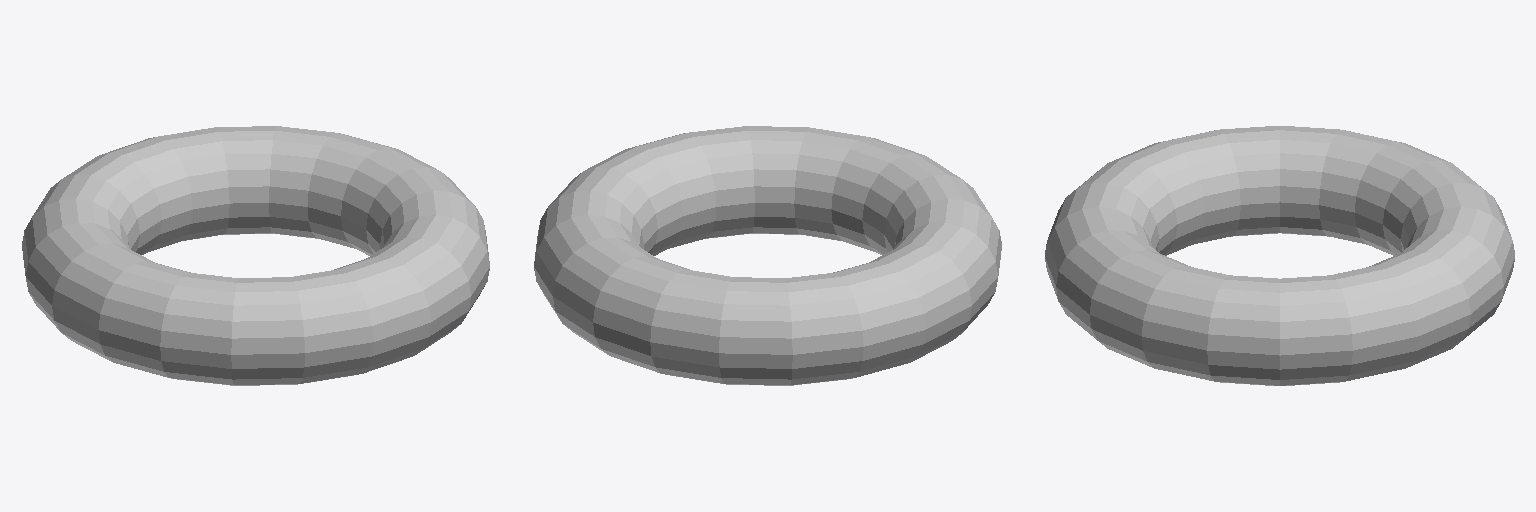
Rendered from cloud.obj.
3 views of the same model, side by side, from view 1: azimuth 30°, elevation 25°; view 2: azimuth 150°, elevation 25°; view 3: azimuth 270°, elevation 25° (orthographic).
Parts seen in each view (by area): view 1: pTorus1; view 2: pTorus1; view 3: pTorus1.
Part boxes in pixels (x1,y1,x2,y2): pTorus1: (22,126,489,385); pTorus1: (534,126,1001,385); pTorus1: (1045,126,1514,385).
Size of the model in its own units: 2.6 by 0.6 by 2.6.